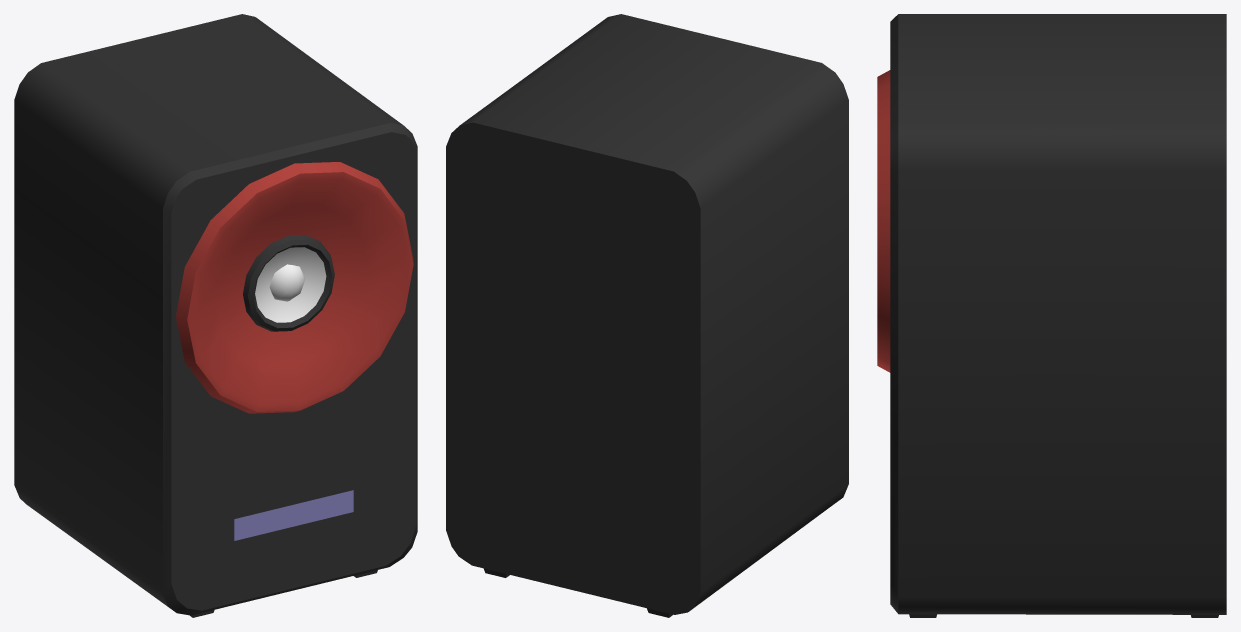
The model's file is XZNuforceS1a.FBX.
3 renders of one model, left to right at view 1: azimuth 30°, elevation 25°; view 2: azimuth 150°, elevation 25°; view 3: azimuth 270°, elevation 25°, orthographic. The views are drawn at different scales.
Parts seen in each view (by area): view 1: XZNuforceS1a; view 2: XZNuforceS1a; view 3: XZNuforceS1a.
Part boxes in pixels (x1,y1,x2,y2): XZNuforceS1a: [14, 14, 417, 617]; XZNuforceS1a: [446, 14, 848, 617]; XZNuforceS1a: [877, 14, 1226, 617].
Bounding box in the file's own units: 14.17 × 15.23 × 24.02.
